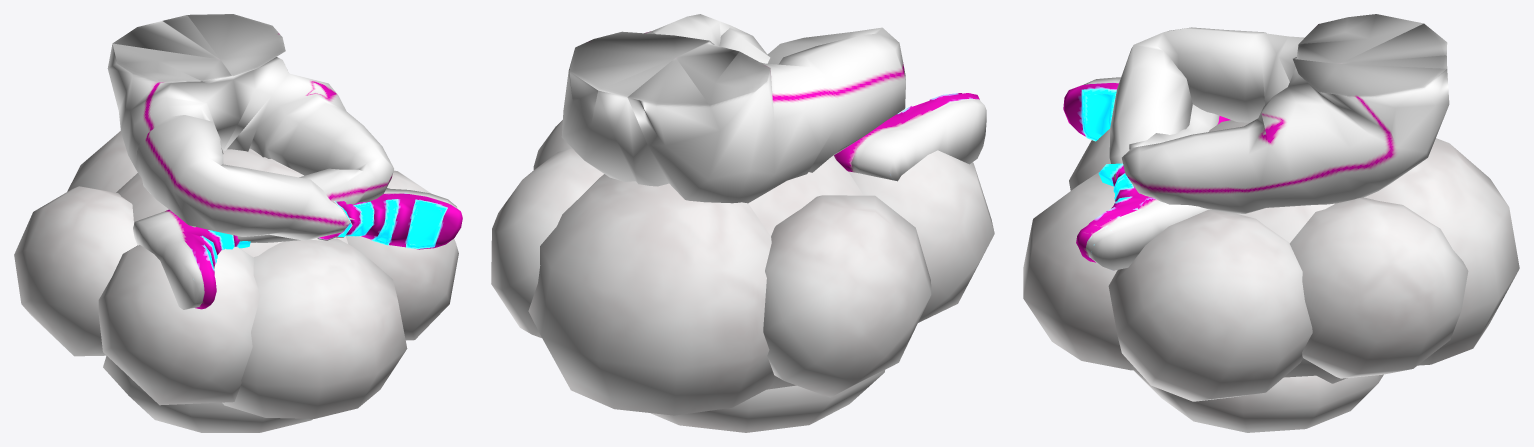
File: Nube_Man_B.glb
The picture shows the model from 3 angles, left to right: view 1: azimuth 30°, elevation 25°; view 2: azimuth 150°, elevation 25°; view 3: azimuth 270°, elevation 25°; orthographic projection. The views are drawn at different scales.
Parts seen in each view (by area): view 1: Mesh.008; view 2: Mesh.008; view 3: Mesh.008.
Part boxes in pixels (x1,y1,x2,y2): Mesh.008: [14, 14, 462, 432]; Mesh.008: [491, 14, 994, 432]; Mesh.008: [1023, 14, 1519, 432].
Size of what is drawn, in the model's own units: 0.8292 by 0.718 by 0.9032.
Materials: 1 (1 with a texture image).
